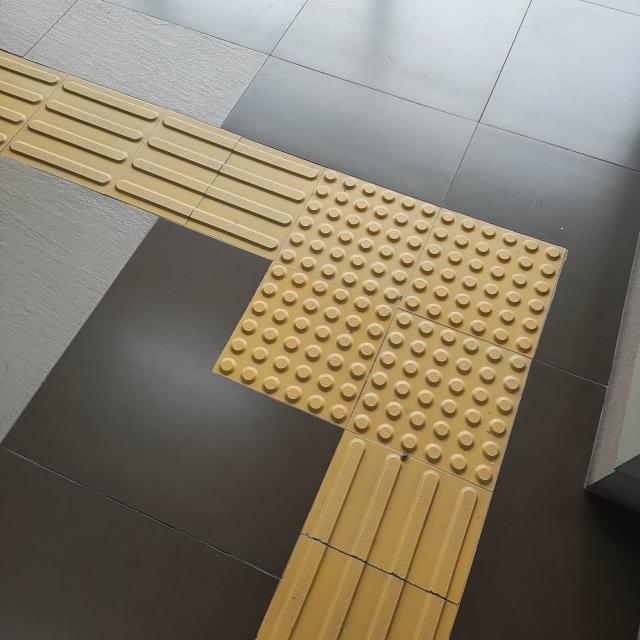kiri: (105, 45, 601, 562)
